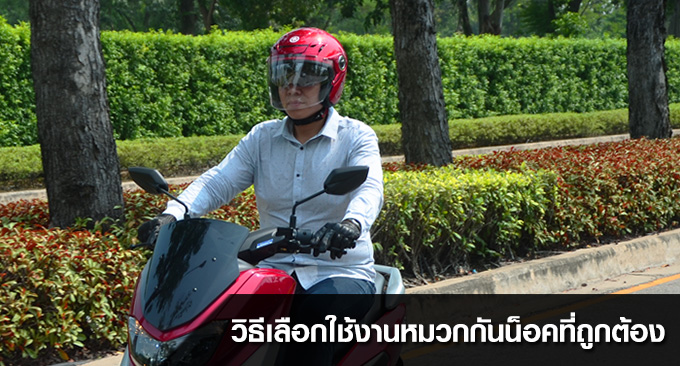helmet: (268, 26, 348, 109)
motorcycle: (129, 168, 366, 295)
